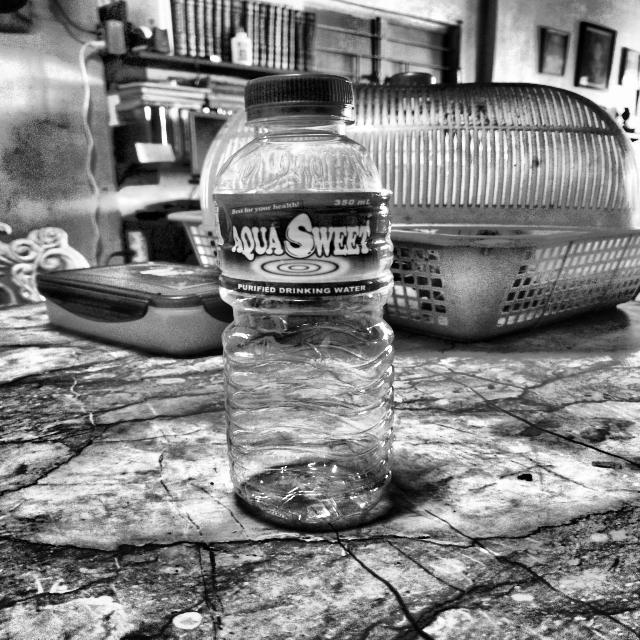Plastic-Bottle: (209, 68, 402, 532)
